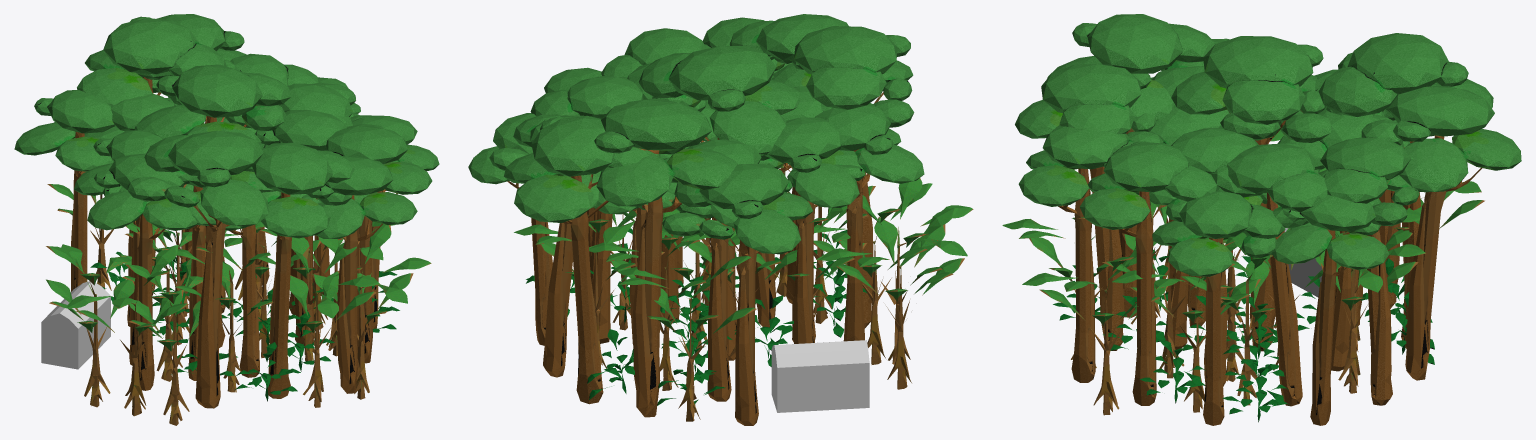
File: AgroForest.fbx
3 renders of one model, left to right at view 1: azimuth 30°, elevation 25°; view 2: azimuth 150°, elevation 25°; view 3: azimuth 270°, elevation 25°, orthographic. The views are drawn at different scales.
Visible parts, largest first — view 1: AgroForest; view 2: AgroForest; view 3: AgroForest.
Part boxes in pixels (bbox=[...]): AgroForest: bbox=[14, 14, 439, 425]; AgroForest: bbox=[468, 14, 973, 425]; AgroForest: bbox=[1002, 14, 1521, 425].
Bounding box in the file's own units: 1.76 × 1.29 × 1.86.
